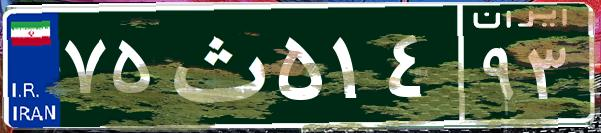1: (330, 28, 385, 110)
3: (525, 38, 570, 115)
4: (385, 28, 445, 110)
5: (273, 28, 330, 110), (110, 28, 158, 105)
7: (57, 26, 110, 107)
9: (475, 38, 525, 113)
ث: (158, 15, 273, 115)
